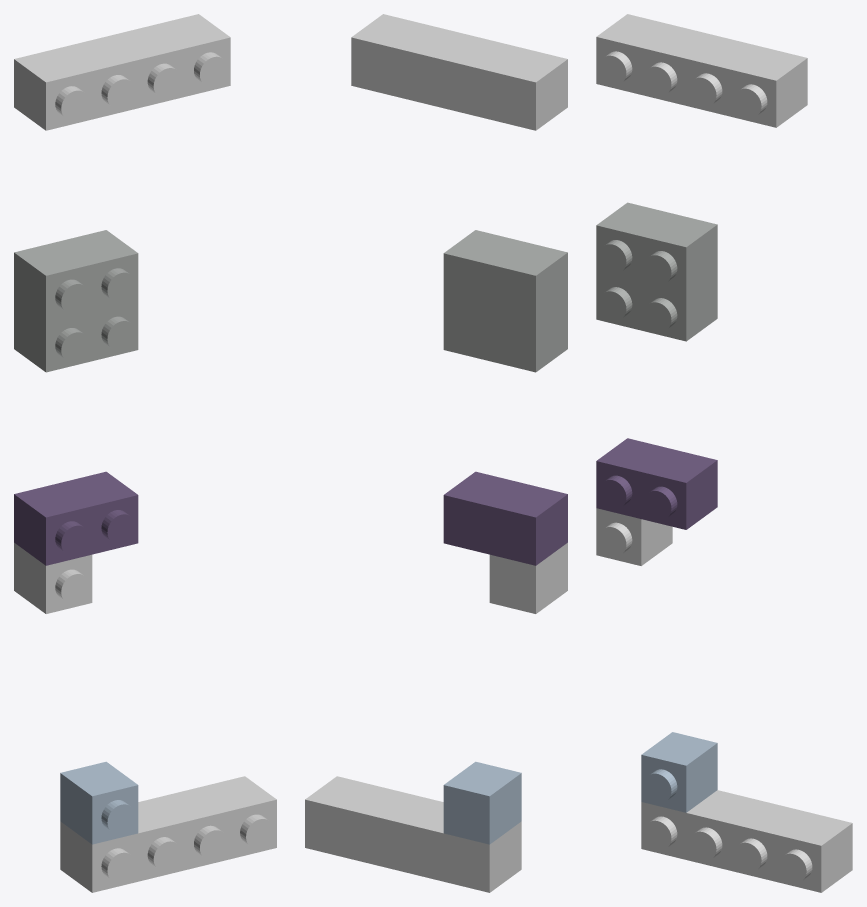
The model's file is current.glb.
The picture shows the model from 3 angles, left to right: view 1: azimuth 30°, elevation 25°; view 2: azimuth 150°, elevation 25°; view 3: azimuth 330°, elevation 25°; orthographic projection. The views are drawn at different scales.
Visible parts, largest first — view 1: world; view 2: world; view 3: world.
Part boxes in pixels (bbox=[...]): world: bbox=[14, 14, 276, 892]; world: bbox=[305, 14, 567, 892]; world: bbox=[596, 14, 852, 892].
Bounding box in the file's own units: 40 × 136 × 11.4.
